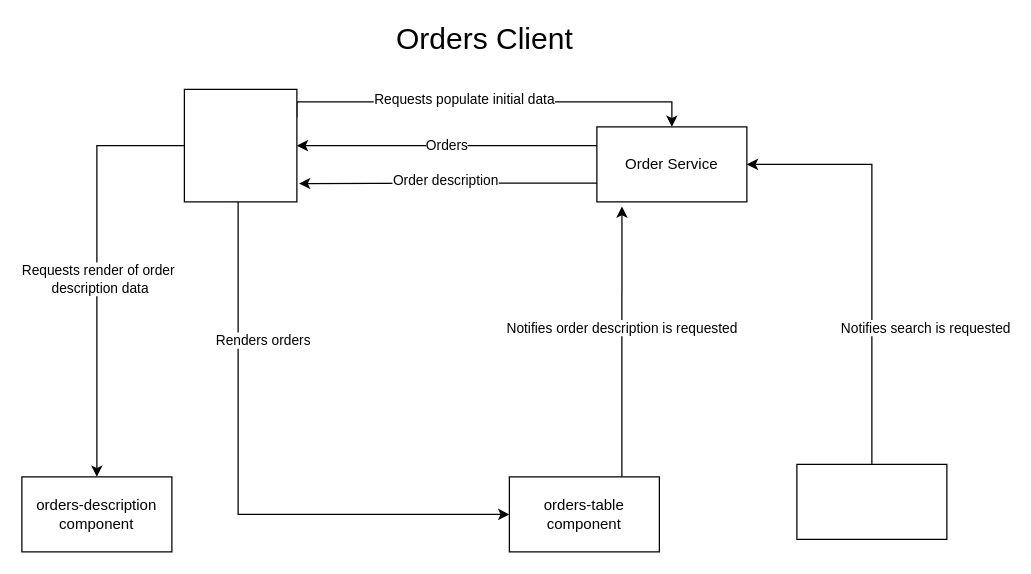
Some shapes in this 1031 by 574 pixel diagram are drawn without their labels. The shapes that lost their labels are listed below. From the top down, each one's box as (x1, y1, x2, y2) in pixels, then its label:
(183, 88, 297, 202): app-component
(796, 463, 947, 539): orders-search component
